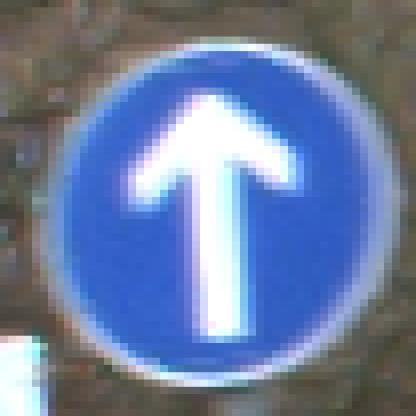AheadOnly: (49, 38, 377, 381)
